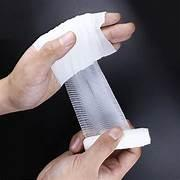Bandage: (34, 12, 150, 148), (34, 12, 116, 85), (116, 128, 150, 148)
cotton: (65, 62, 150, 148)
